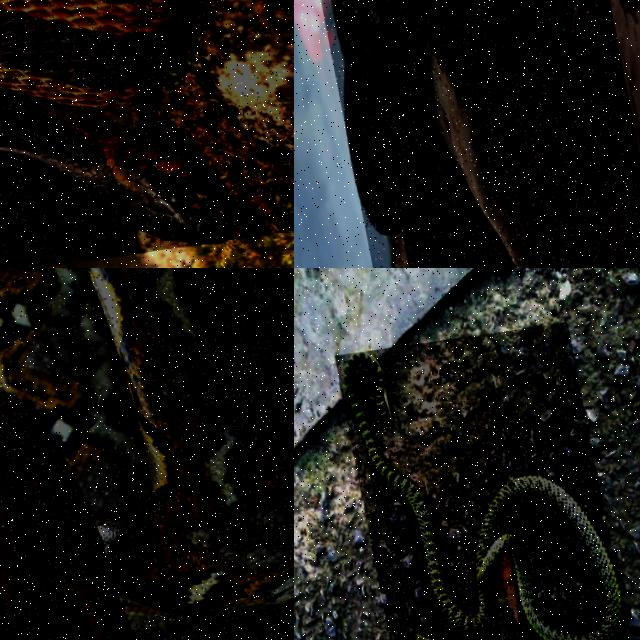Bungarus fasciatus: (0, 0, 235, 244)
Calloselasma rhodostoma: (333, 0, 515, 267)
Chrysopelea ornata: (344, 352, 622, 639)
Malayopython reticulatus: (0, 268, 293, 639)
snake: (0, 268, 293, 639), (344, 352, 622, 639), (0, 0, 235, 244), (333, 0, 515, 267)
